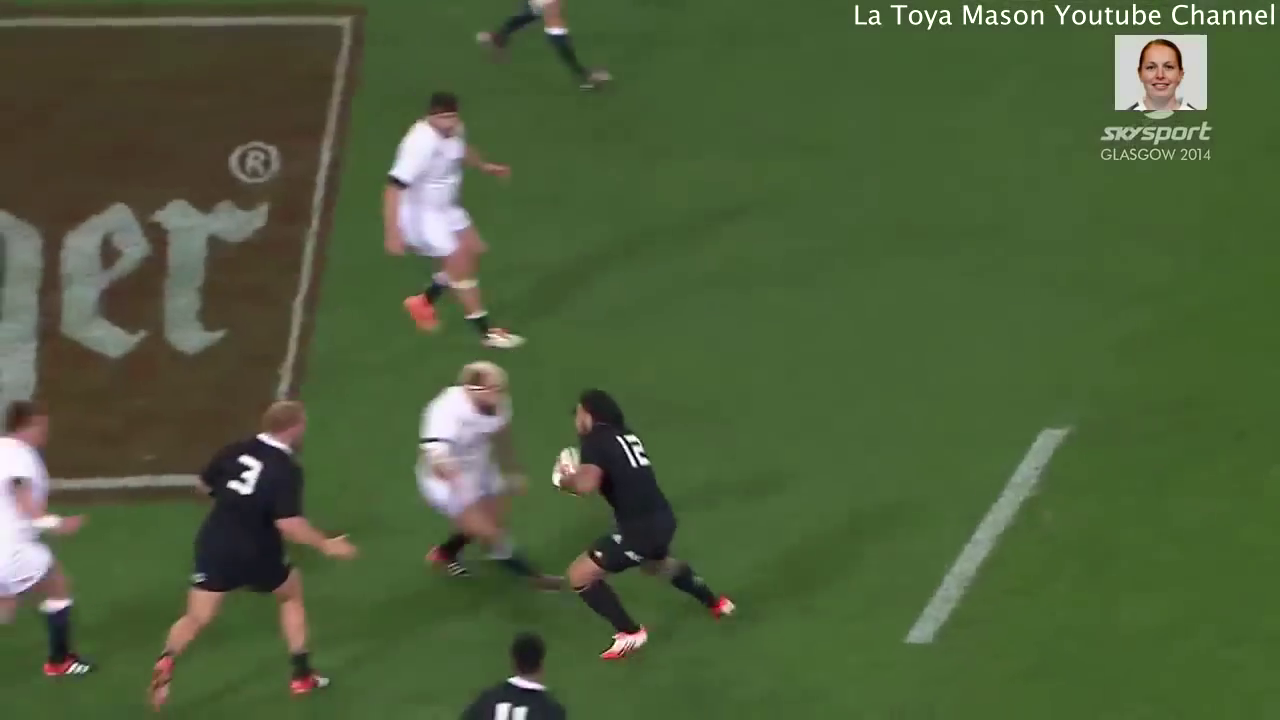ball: (542, 435, 593, 502)
player: (139, 395, 355, 709), (549, 385, 745, 664), (373, 91, 541, 352), (409, 354, 534, 596), (1, 396, 97, 688), (441, 624, 581, 720)
